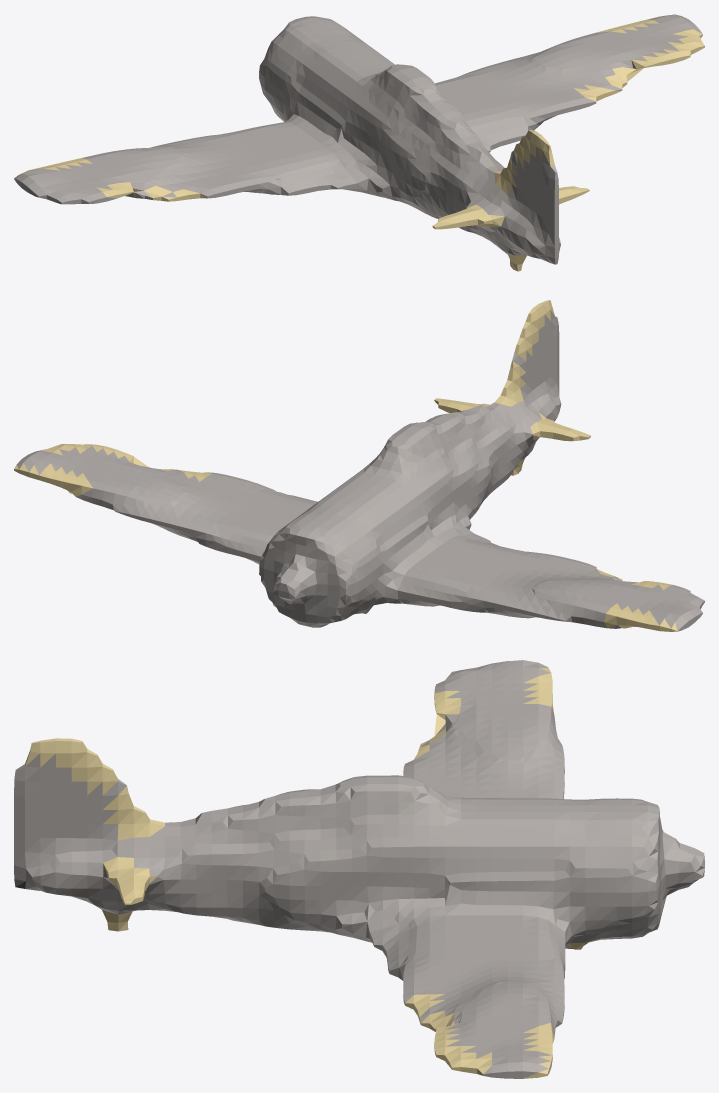
Rendered from unit_sparrowhawk.glb.
The picture shows the model from 3 angles, top to bottom: view 1: azimuth 30°, elevation 25°; view 2: azimuth 150°, elevation 25°; view 3: azimuth 270°, elevation 25°; orthographic projection. The views are drawn at different scales.
Parts seen in each view (by area): view 1: Mesh_0.044; view 2: Mesh_0.044; view 3: Mesh_0.044.
Part boxes in pixels (bbox=[...]): Mesh_0.044: bbox=[14, 14, 704, 271]; Mesh_0.044: bbox=[14, 300, 704, 631]; Mesh_0.044: bbox=[14, 660, 704, 1078].
Bounding box in the file's own units: 5.34 × 1.24 × 3.8.
